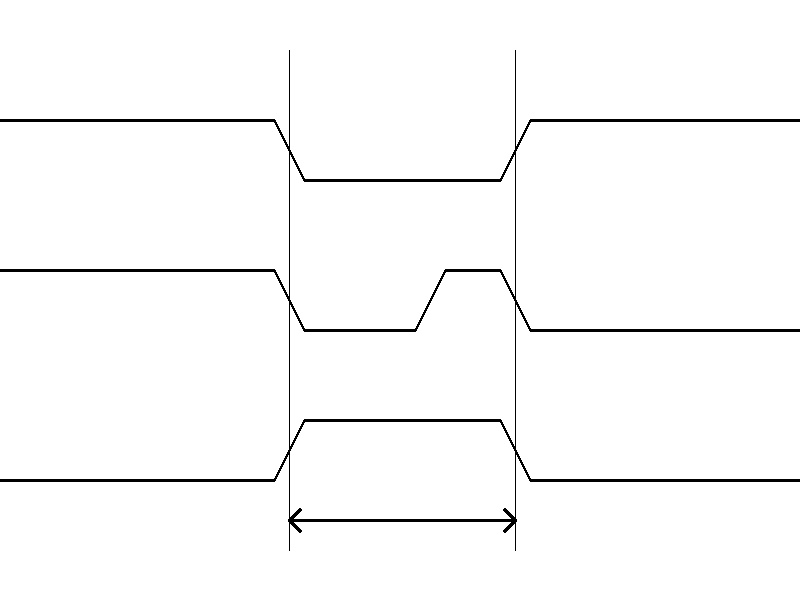double_arrow: (289, 505, 515, 535)
